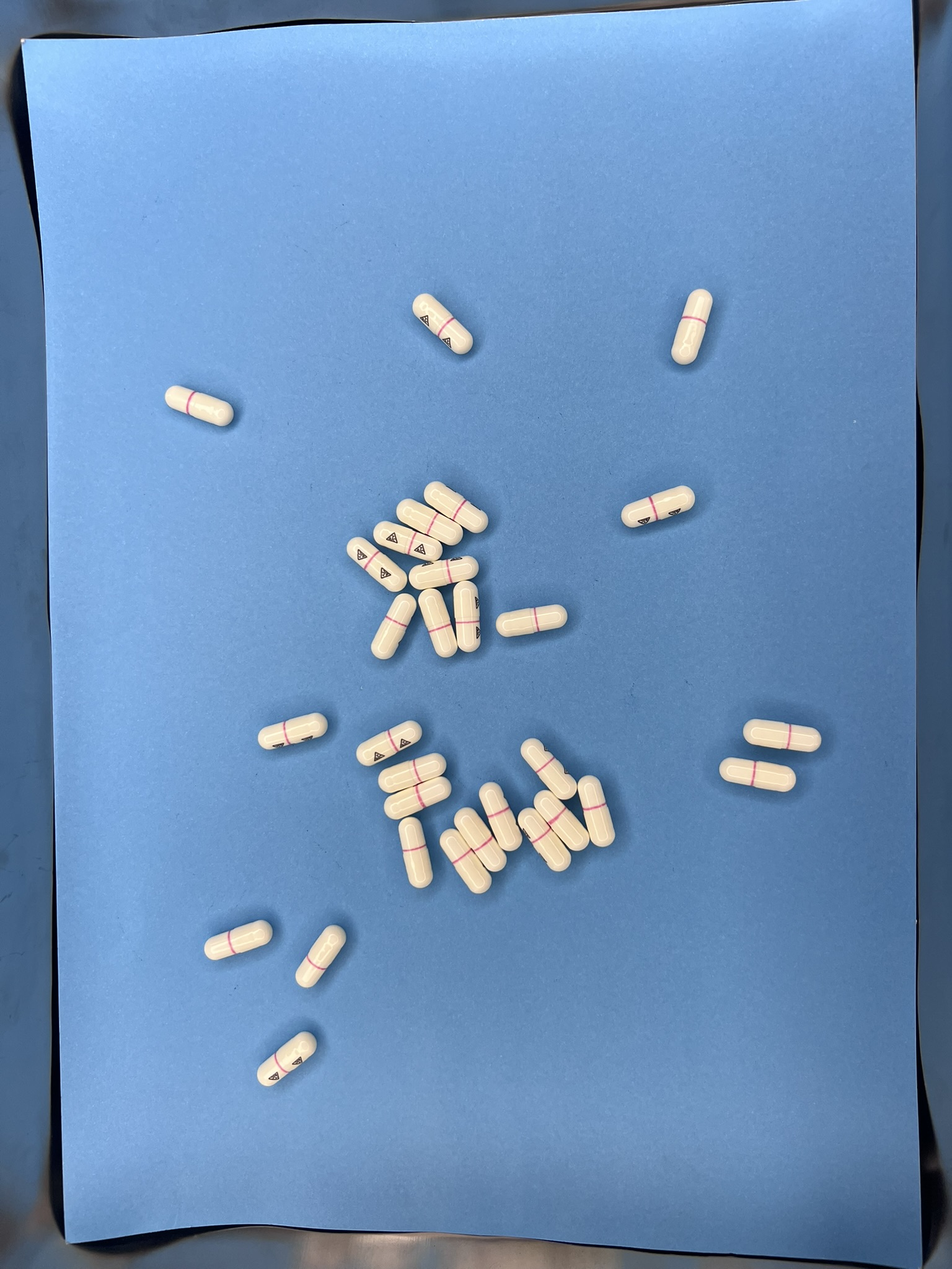Capsule: (412, 293, 474, 355), (516, 806, 572, 873), (532, 790, 588, 854), (453, 806, 506, 873), (347, 536, 408, 594), (521, 739, 578, 801), (424, 480, 489, 533), (440, 829, 492, 895), (257, 1030, 316, 1088), (671, 288, 714, 367), (296, 923, 346, 989), (371, 592, 417, 663), (395, 498, 461, 546), (356, 719, 421, 766), (623, 485, 694, 528), (379, 753, 448, 797), (383, 775, 451, 819), (479, 783, 522, 852), (374, 521, 442, 564), (164, 385, 232, 428), (417, 589, 457, 660), (205, 920, 272, 962), (742, 718, 821, 753), (259, 712, 328, 751), (720, 758, 794, 794), (579, 776, 616, 848), (397, 817, 432, 890), (409, 555, 478, 591), (495, 604, 568, 638), (453, 580, 481, 653)
